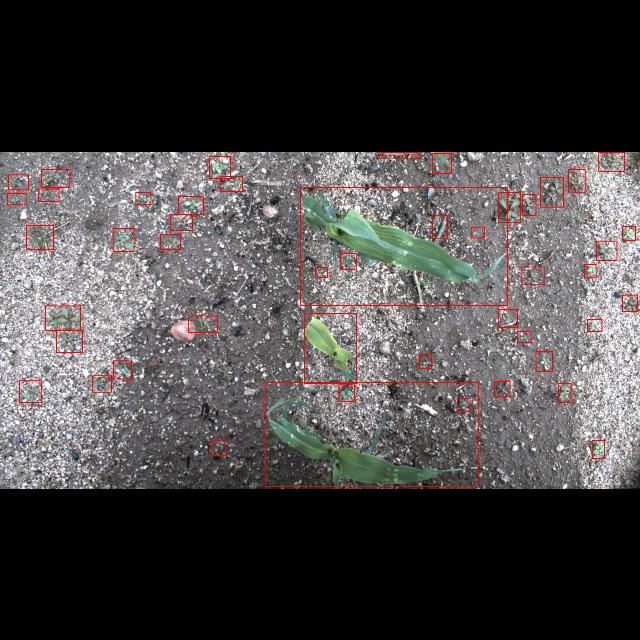crop: (300, 187, 508, 305), (264, 382, 478, 486), (304, 313, 356, 383), (432, 152, 452, 172), (380, 151, 420, 157)
weed: (46, 306, 80, 330), (26, 224, 54, 250), (540, 176, 564, 206), (498, 192, 520, 222), (56, 330, 82, 352), (42, 169, 70, 187), (112, 228, 134, 250), (19, 380, 41, 402), (188, 316, 218, 332), (178, 196, 204, 214), (599, 152, 625, 170), (210, 155, 230, 177), (568, 168, 586, 192), (597, 240, 617, 260), (522, 266, 544, 284), (170, 213, 192, 230), (432, 215, 448, 238), (498, 309, 518, 327), (113, 360, 131, 378), (160, 233, 180, 249), (536, 351, 552, 371), (220, 176, 242, 190), (522, 193, 536, 215), (92, 375, 111, 391), (339, 384, 355, 402), (622, 294, 638, 312), (8, 174, 28, 188), (494, 380, 510, 396), (340, 252, 356, 268), (39, 188, 59, 200), (558, 382, 570, 402), (212, 440, 226, 456), (8, 192, 26, 204), (592, 440, 604, 458), (622, 226, 636, 240), (586, 319, 602, 331), (456, 398, 469, 412), (136, 192, 150, 204), (419, 354, 431, 368), (517, 331, 531, 342), (584, 264, 596, 276), (472, 226, 484, 238), (316, 267, 328, 277)
